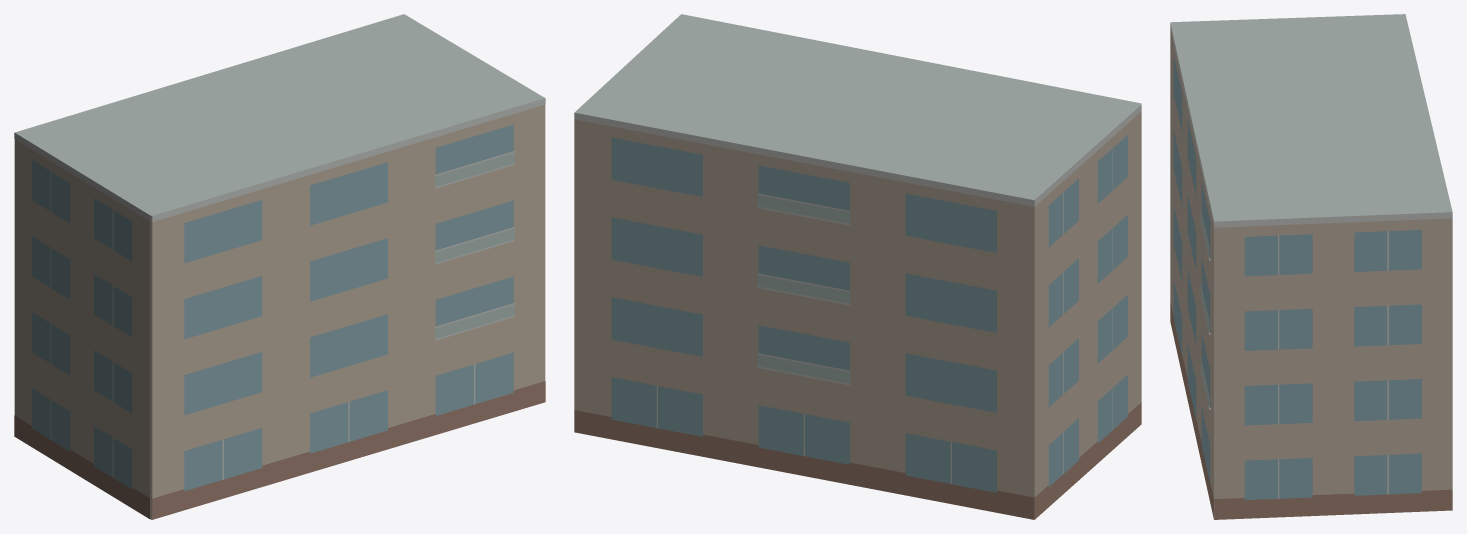
The model's file is survey-upis-32905100.glb.
3 views of the same model, side by side, from view 1: azimuth 30°, elevation 25°; view 2: azimuth 150°, elevation 25°; view 3: azimuth 270°, elevation 25° (orthographic). The views are drawn at different scales.
Parts seen in each view (by area): view 1: survey-upis-32905100.tmp; view 2: survey-upis-32905100.tmp; view 3: survey-upis-32905100.tmp.
Boxes of the visible parts, box(x1,y1,x2,y2) form: survey-upis-32905100.tmp: box(14, 14, 545, 519); survey-upis-32905100.tmp: box(574, 14, 1141, 519); survey-upis-32905100.tmp: box(1170, 14, 1452, 519).
Bounding box in the file's own units: 17.47 × 11.7 × 10.05.
